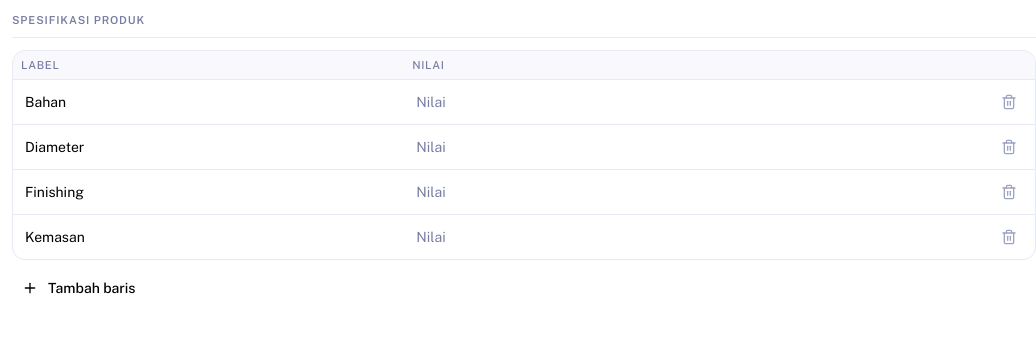
ProductSpecsEditor › adds a custom row on demand
The width and height of the screenshot is (1036, 356).
Click the button "Tambah baris": (79, 288) left=12, top=272, right=146, bottom=304
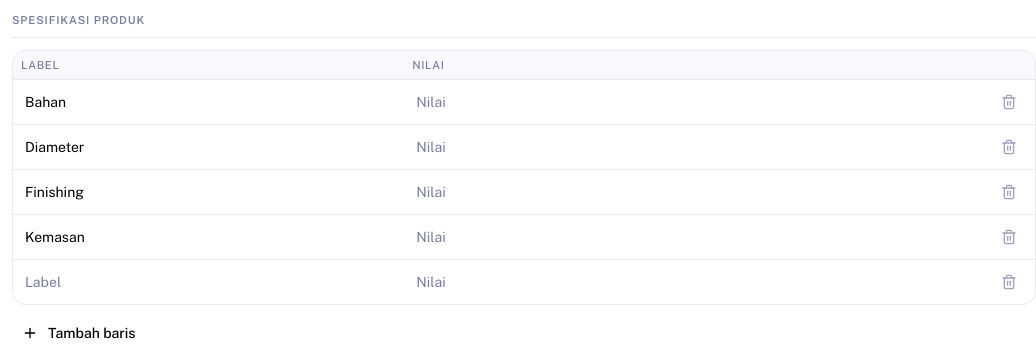
Expected: the number of fields with placeholder "Nilai" is 5, left=412, top=86, right=987, bottom=118; left=412, top=131, right=987, bottom=163; left=412, top=176, right=987, bottom=208; left=412, top=221, right=987, bottom=253; left=412, top=266, right=987, bottom=298
